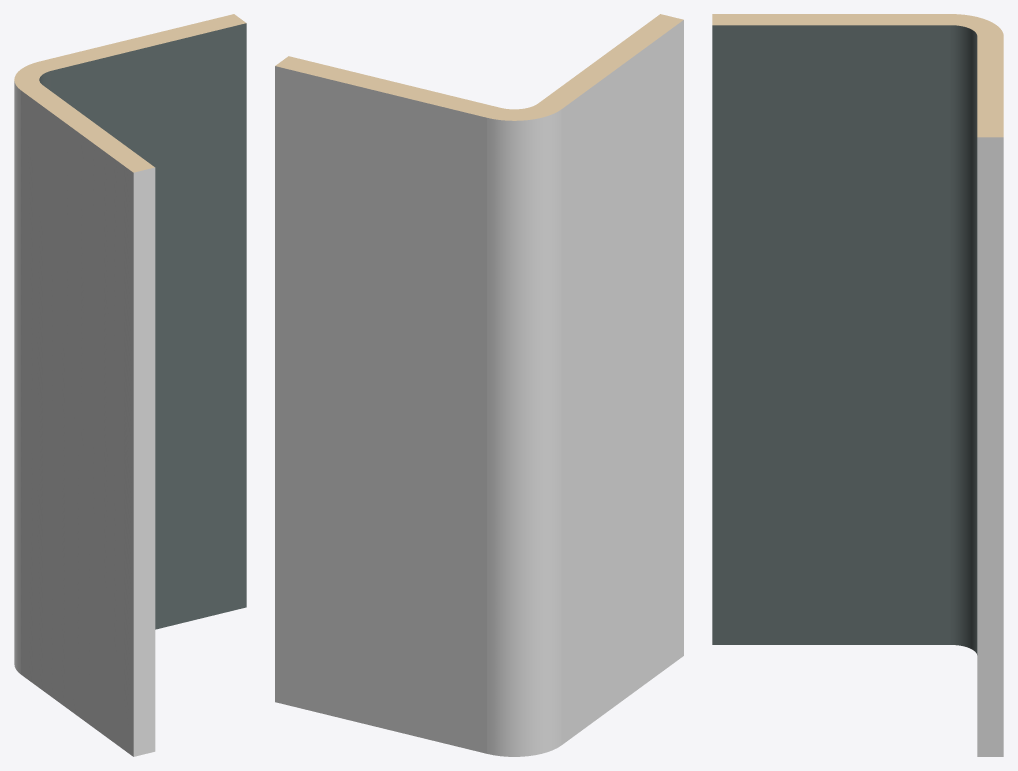
File: wallCornerRond.glb
3 renders of one model, left to right at view 1: azimuth 30°, elevation 25°; view 2: azimuth 150°, elevation 25°; view 3: azimuth 270°, elevation 25°, orthographic. The views are drawn at different scales.
Visible parts, largest first — view 1: wallCornerRond; view 2: wallCornerRond; view 3: wallCornerRond.
Part boxes in pixels (box(x1,y1,x2,y2)): wallCornerRond: box(14, 14, 246, 756); wallCornerRond: box(275, 14, 683, 756); wallCornerRond: box(712, 14, 1003, 756).
Size of the model in its own units: 5.5 by 12.9 by 5.5.
